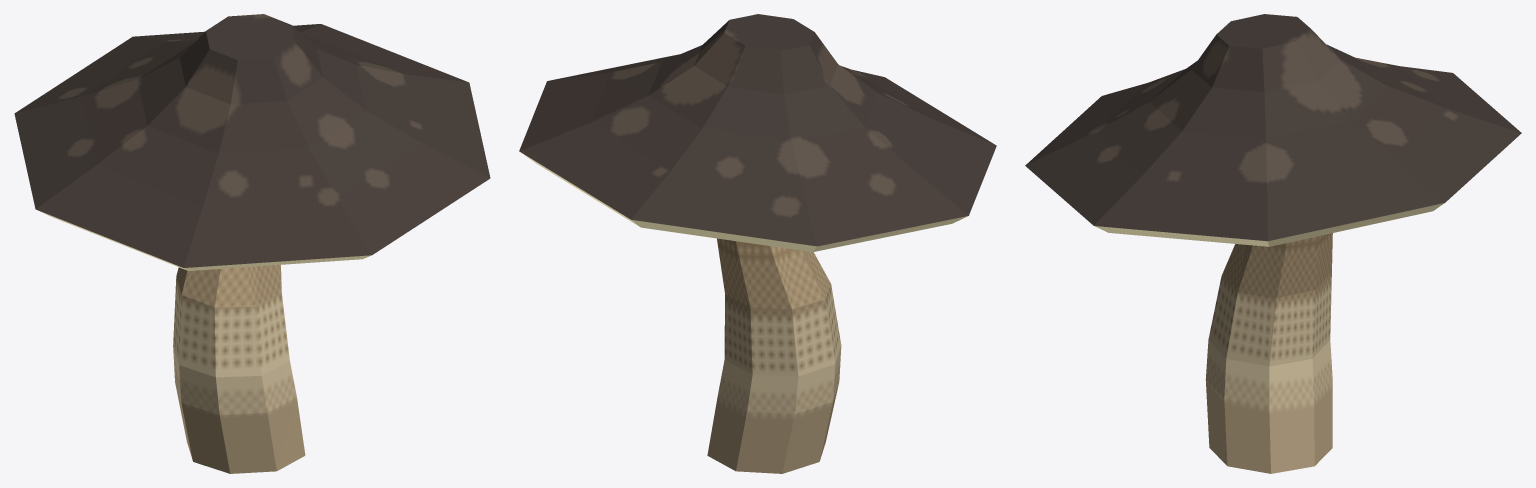
The model's file is Mushroom.dae.
3 views of the same model, side by side, from view 1: azimuth 30°, elevation 25°; view 2: azimuth 150°, elevation 25°; view 3: azimuth 270°, elevation 25° (orthographic).
Visible parts, largest first — view 1: Cylinder; view 2: Cylinder; view 3: Cylinder.
Boxes of the visible parts, left/top/right/bottom form: Cylinder: left=14, top=14, right=490, bottom=473; Cylinder: left=519, top=14, right=996, bottom=473; Cylinder: left=1025, top=14, right=1521, bottom=473.
Bounding box in the file's own units: 2 × 1.99 × 1.86.
